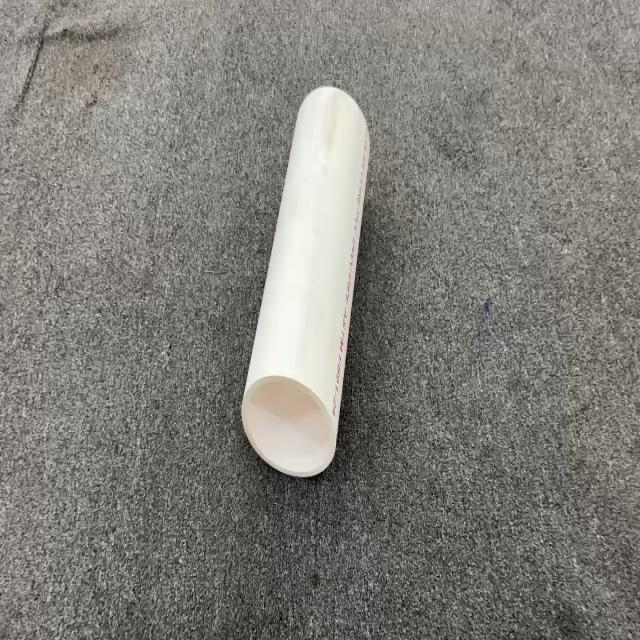coral: (240, 84, 370, 478)
